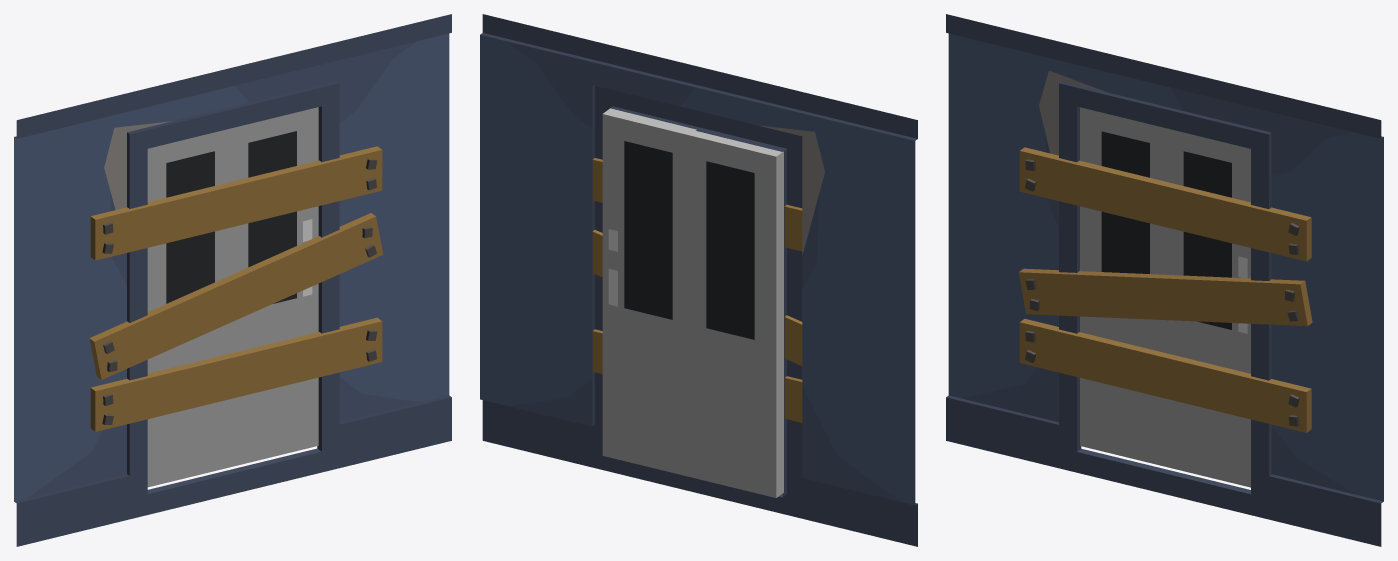
Rendered from AI_Env_Wall_Blue_BlockedDoor_01.fbx.
The picture shows the model from 3 angles, left to right: view 1: azimuth 30°, elevation 25°; view 2: azimuth 150°, elevation 25°; view 3: azimuth 330°, elevation 25°; orthographic projection.
Visible parts, largest first — view 1: AI_Env_Wall_Blue_BlockedDoor_01; view 2: AI_Env_Wall_Blue_BlockedDoor_01; view 3: AI_Env_Wall_Blue_BlockedDoor_01.
Part boxes in pixels (x1,y1,x2,y2): AI_Env_Wall_Blue_BlockedDoor_01: (14, 14, 451, 546); AI_Env_Wall_Blue_BlockedDoor_01: (480, 14, 917, 546); AI_Env_Wall_Blue_BlockedDoor_01: (946, 14, 1383, 546).
Bounding box in the file's own units: 5 × 4.69 × 0.3005.
